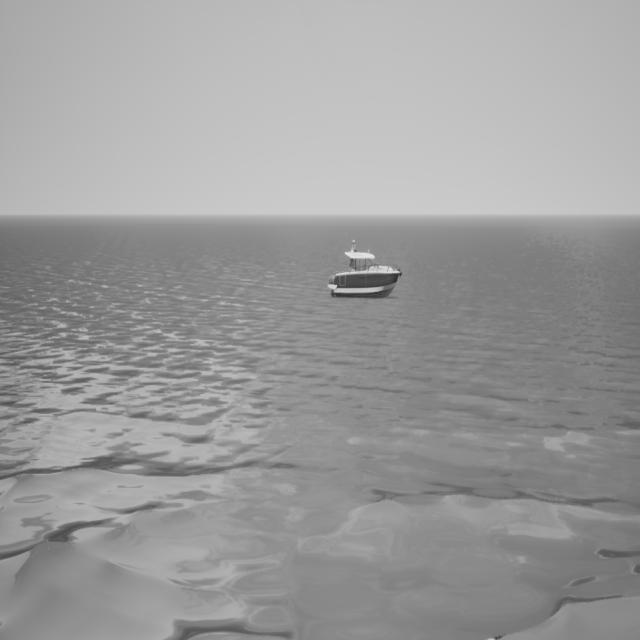ship: (327, 236, 403, 296)
